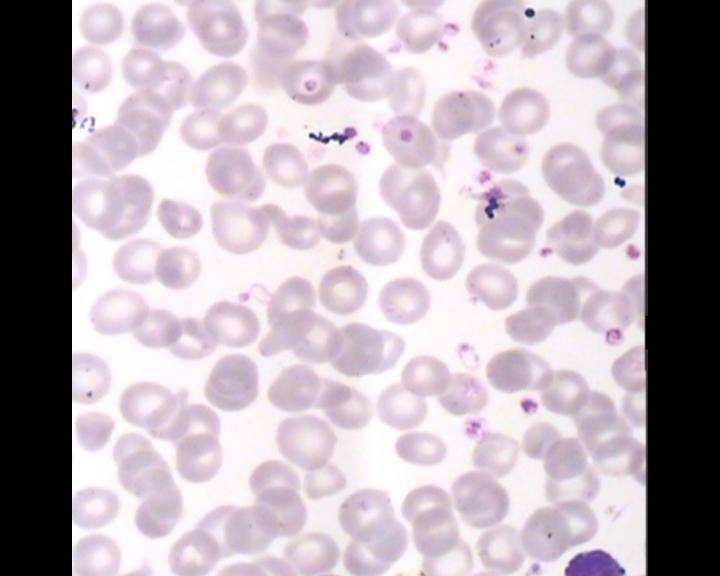baso: (556, 545, 633, 576)
